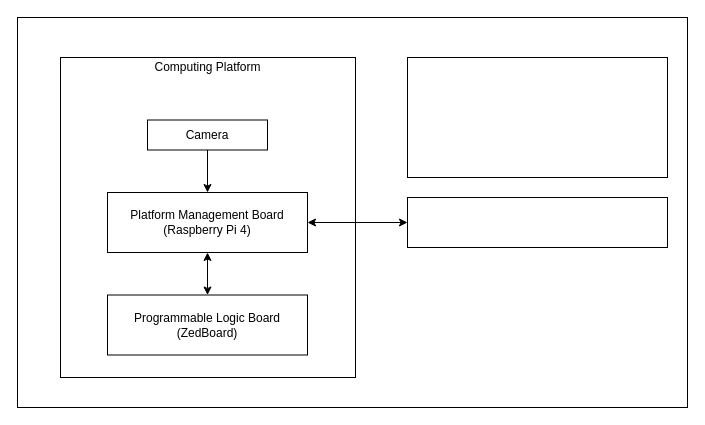
This 705x425 diagram has some shape labels left out. Here are the shapes that lost their labels. From the top down, the box of each, then its label:
(406, 56, 668, 178): Multirotor
(406, 196, 668, 248): Base Station
